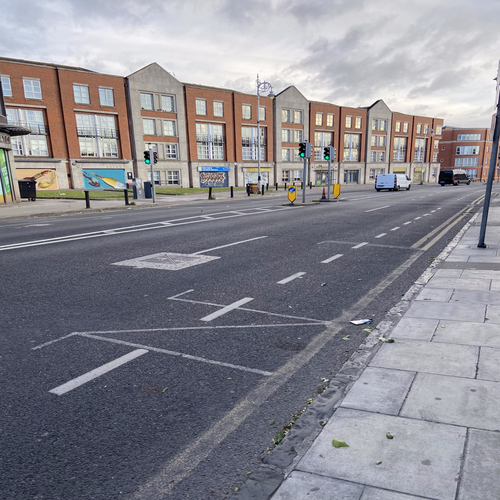Keep Left: (284, 180, 296, 203)
Traffic Light: (296, 139, 310, 163), (321, 146, 335, 164), (141, 150, 153, 167)
